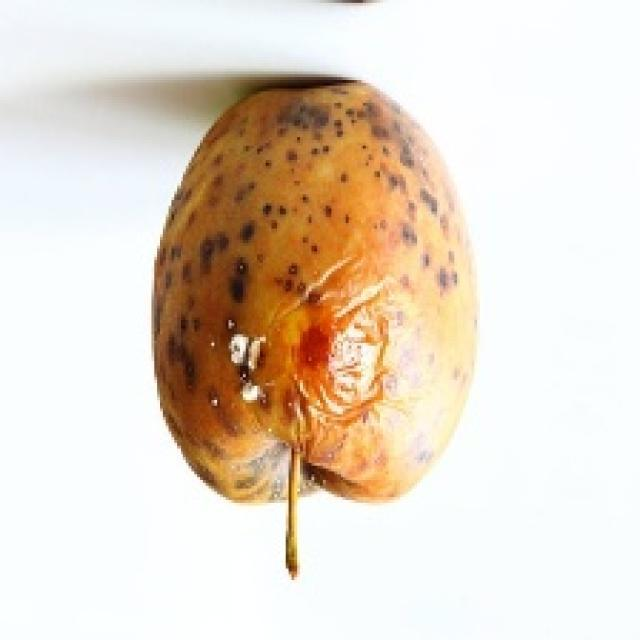apple: (154, 82, 476, 502)
